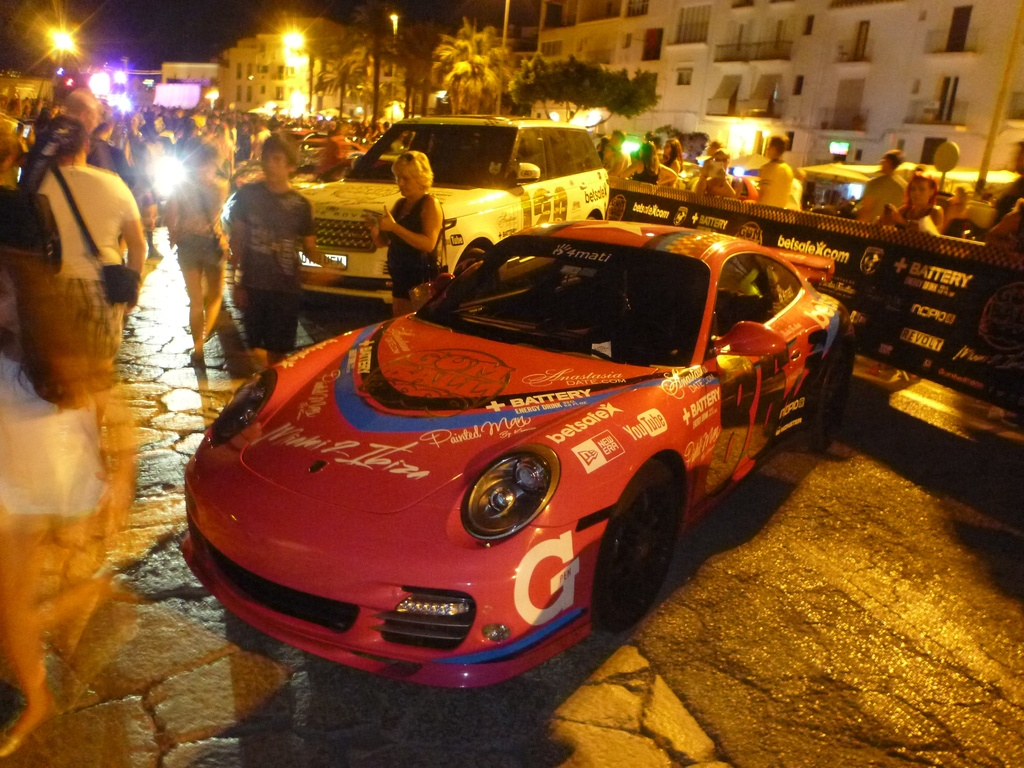Car: (174, 213, 847, 685), (286, 116, 614, 314)
